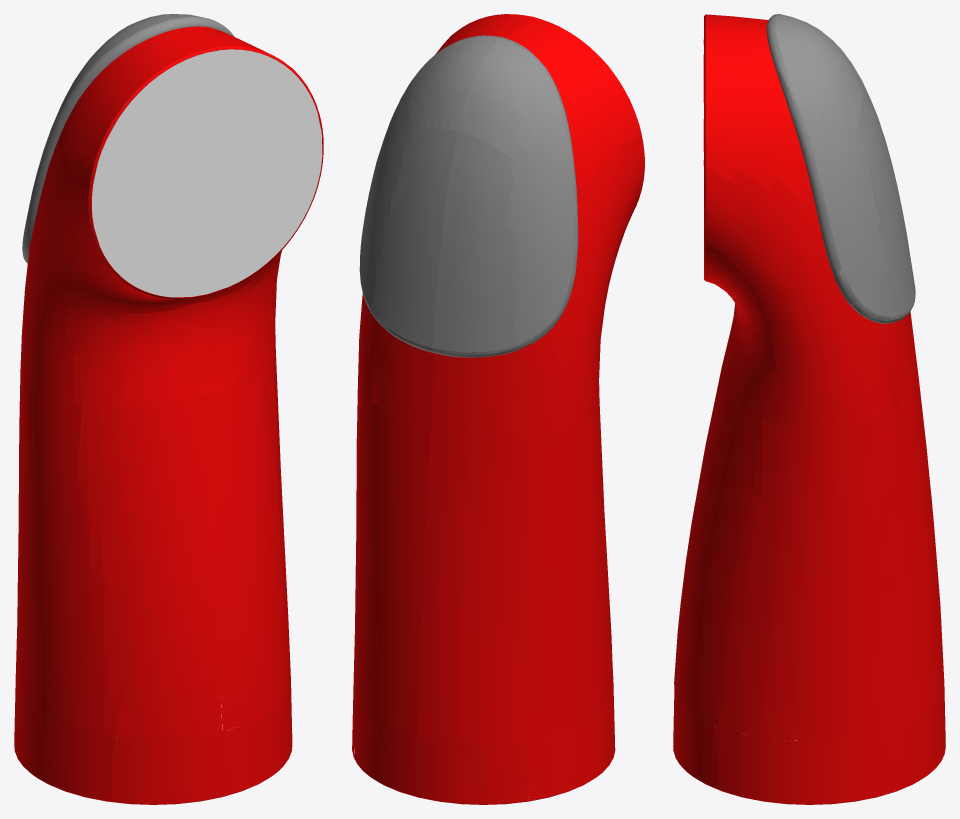
The picture shows the model from 3 angles, left to right: view 1: azimuth 30°, elevation 25°; view 2: azimuth 150°, elevation 25°; view 3: azimuth 270°, elevation 25°; orthographic projection. The views are drawn at different scales.
Parts seen in each view (by area): view 1: _3DGeom_29, _3DGeom_31, _3DGeom_30; view 2: _3DGeom_29, _3DGeom_30; view 3: _3DGeom_29, _3DGeom_30.
Part boxes in pixels (x1,y1,x2,y2): _3DGeom_29: (14, 26, 323, 804); _3DGeom_31: (92, 49, 322, 730); _3DGeom_30: (22, 14, 234, 263); _3DGeom_29: (352, 14, 644, 804); _3DGeom_30: (359, 35, 578, 357); _3DGeom_29: (673, 14, 945, 804); _3DGeom_30: (766, 14, 915, 323).
Bounding box in the file's own units: 0.1066 × 0.1066 × 0.3125.
